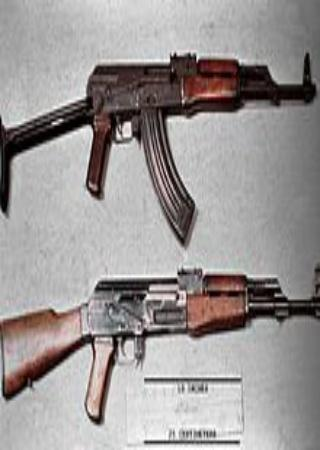rifle: (0, 50, 320, 243), (1, 253, 319, 423)
